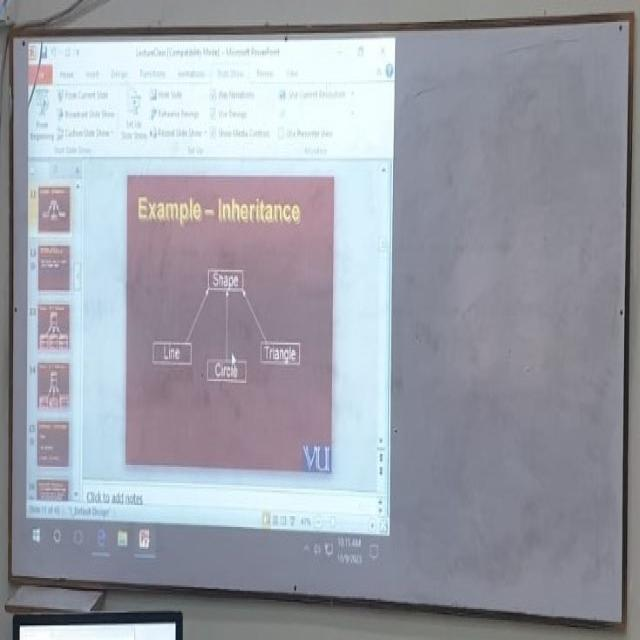Slide: (23, 33, 398, 570)
White-board: (11, 17, 632, 628)
